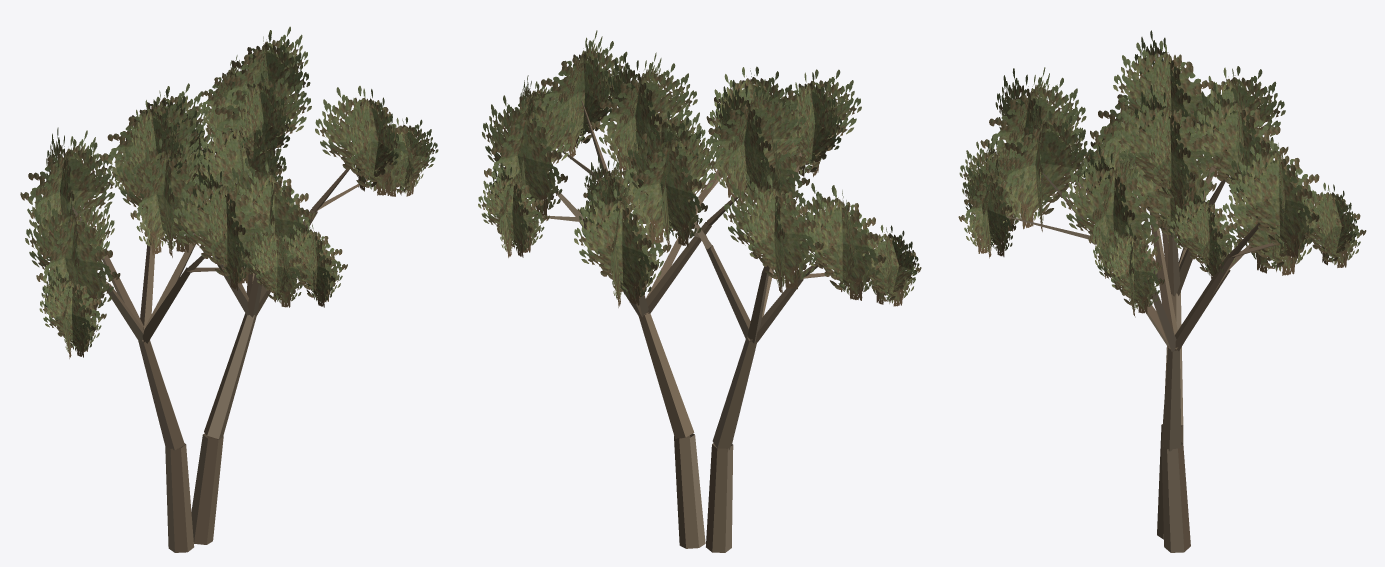
File: Park_Tree_03_Twin_Trunk.fbx
3 renders of one model, left to right at view 1: azimuth 30°, elevation 25°; view 2: azimuth 150°, elevation 25°; view 3: azimuth 270°, elevation 25°, orthographic. The views are drawn at different scales.
Visible parts, largest first — view 1: Park_Tree_03_Twin_Trunk.001; view 2: Park_Tree_03_Twin_Trunk.001; view 3: Park_Tree_03_Twin_Trunk.001.
Part boxes in pixels (x1,y1,x2,y2): Park_Tree_03_Twin_Trunk.001: (20,26,438,552); Park_Tree_03_Twin_Trunk.001: (478,30,921,552); Park_Tree_03_Twin_Trunk.001: (958,30,1366,552).
Bounding box in the file's own units: 477 × 515 × 403.
